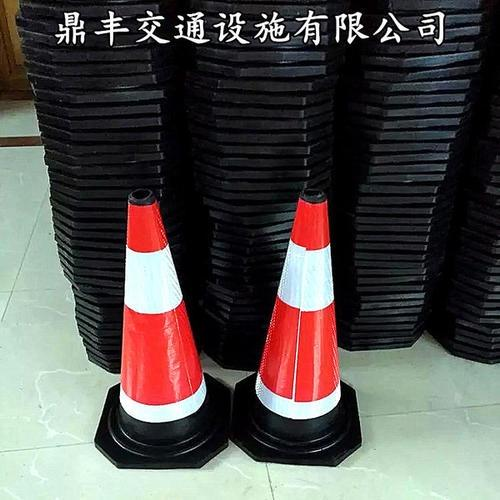cone_barrel: (95, 188, 222, 453), (240, 191, 362, 454)
